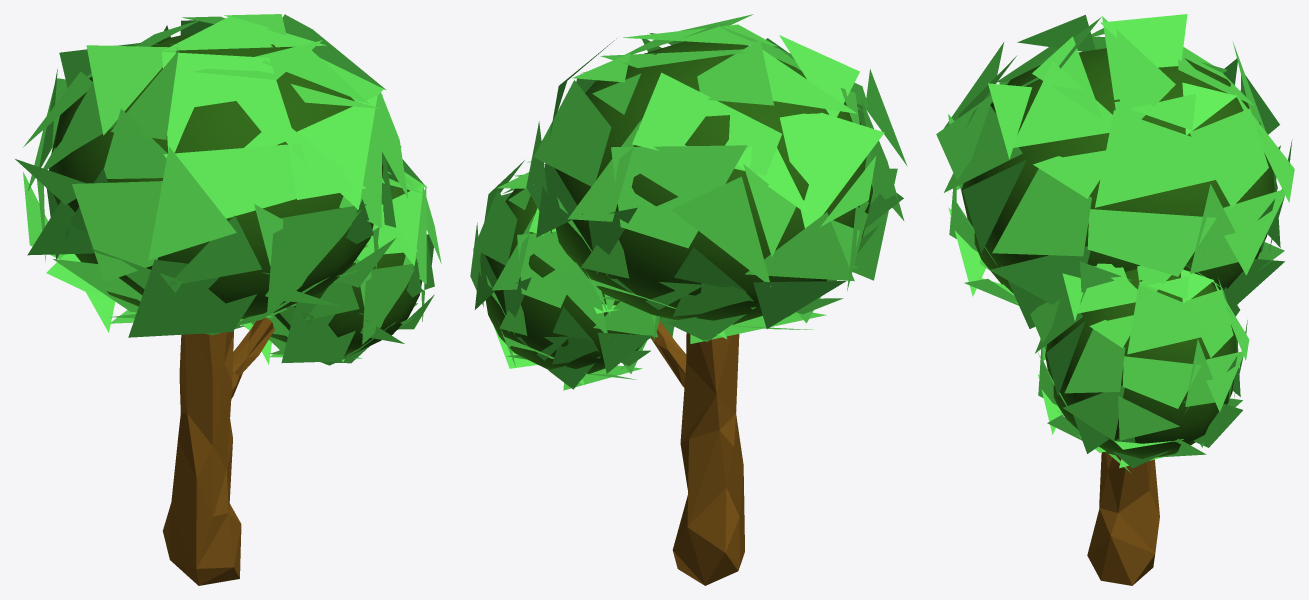
File: ArbolDef3.fbx
The picture shows the model from 3 angles, left to right: view 1: azimuth 30°, elevation 25°; view 2: azimuth 150°, elevation 25°; view 3: azimuth 270°, elevation 25°; orthographic projection. The views are drawn at different scales.
Visible parts, largest first — view 1: ArbolDef3; view 2: ArbolDef3; view 3: ArbolDef3.
Part boxes in pixels (<box>): ArbolDef3: <box>15,14,441,585</box>; ArbolDef3: <box>470,14,907,585</box>; ArbolDef3: <box>936,14,1294,585</box>.
Bounding box in the file's own units: 292 × 400 × 244.
